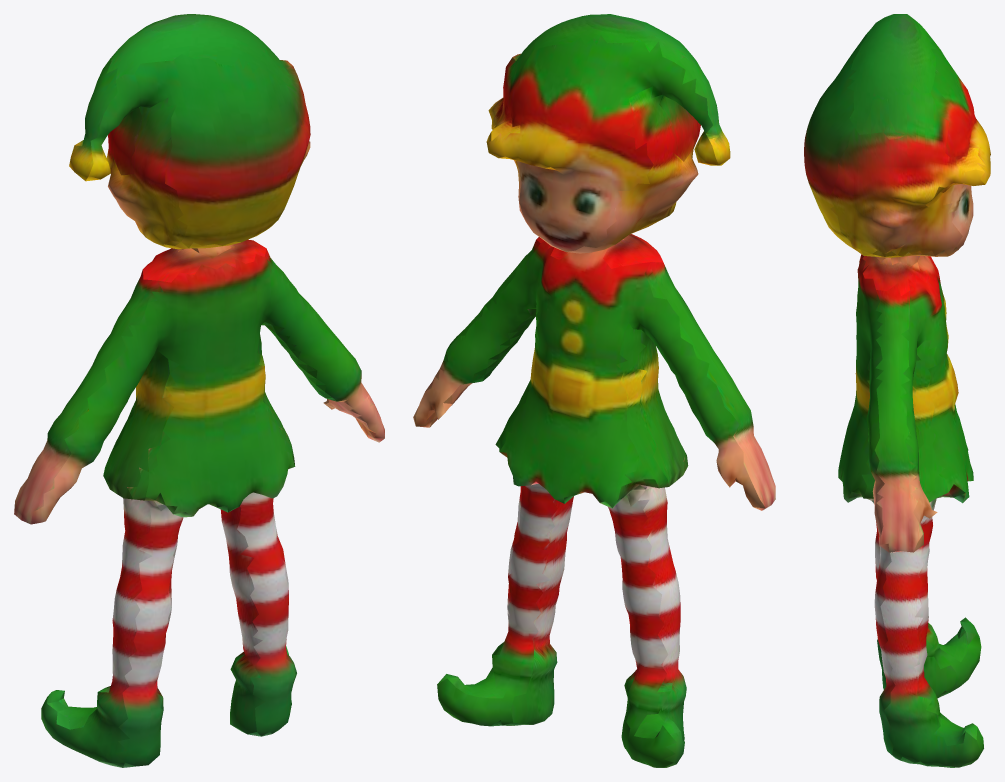
File: elfy-toon-raw.glb
3 renders of one model, left to right at view 1: azimuth 30°, elevation 25°; view 2: azimuth 150°, elevation 25°; view 3: azimuth 270°, elevation 25°, orthographic. The views are drawn at different scales.
Visible parts, largest first — view 1: world; view 2: world; view 3: world.
Boxes of the visible parts, x1,y1,x2,y2 form: world: (14, 14, 384, 767); world: (413, 14, 775, 767); world: (804, 14, 990, 767).
Bounding box in the file's own units: 0.4935 × 0.9626 × 0.236.
1 material, 1 textured.
